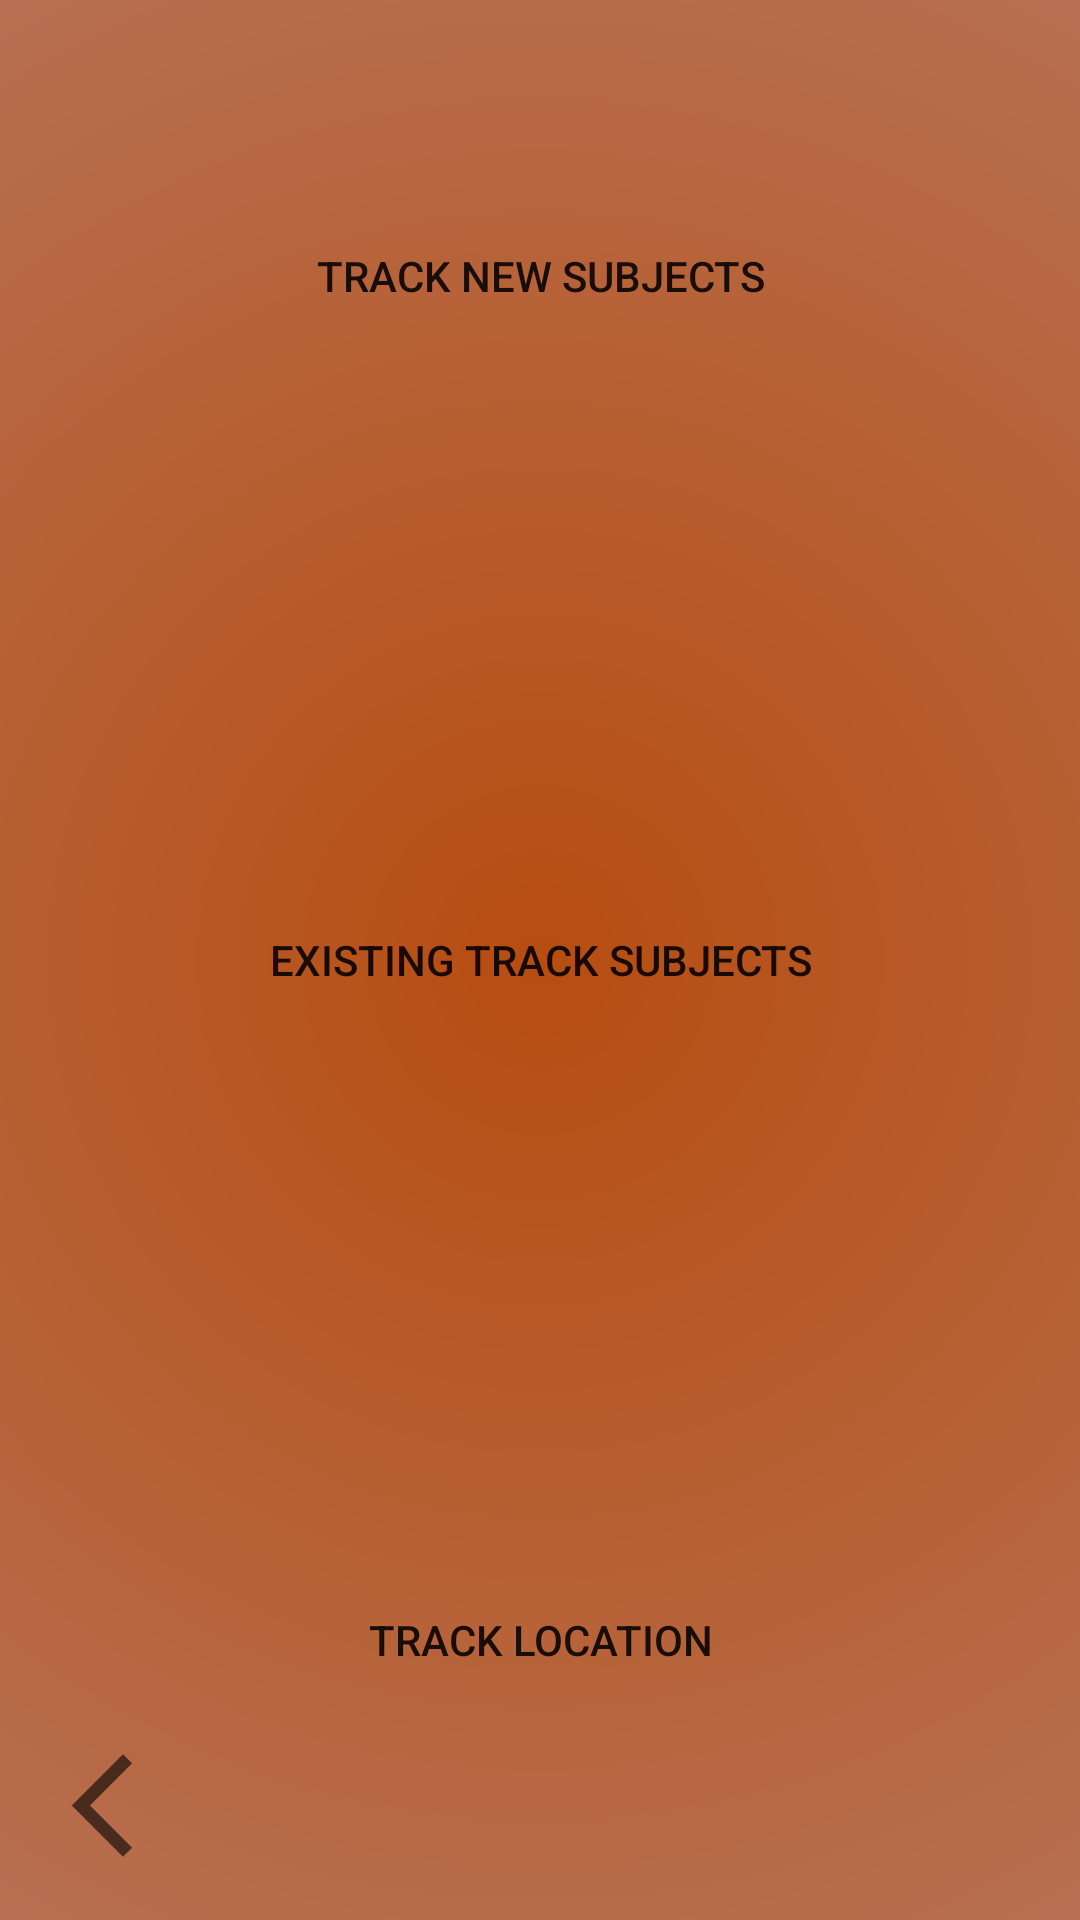

Where to tap for icons on this 1080*1920 app screen, as (x,y):
arrow back: (102,1805)
